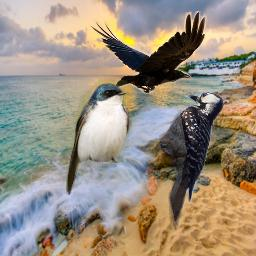Crow: (89, 11, 208, 94)
Swallow: (66, 79, 133, 195)
Woodpecker: (157, 85, 224, 231)
